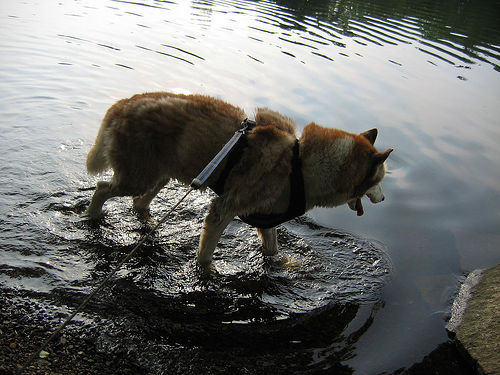dog: (85, 90, 396, 269)
